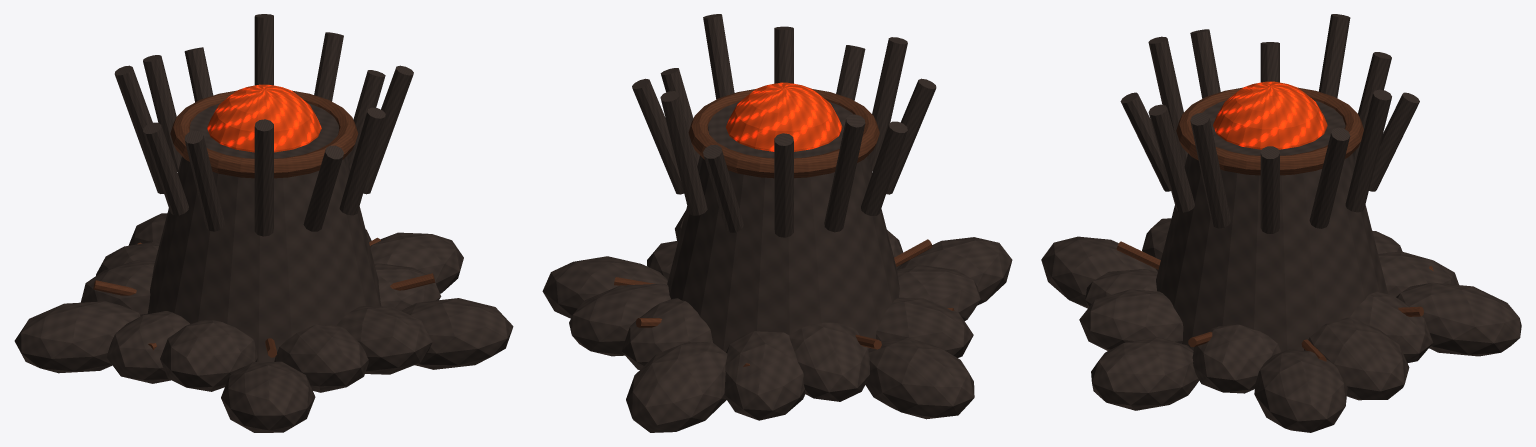
The model's file is underworld-geothermal-vent-crown.glb.
3 views of the same model, side by side, from view 1: azimuth 30°, elevation 25°; view 2: azimuth 150°, elevation 25°; view 3: azimuth 270°, elevation 25° (orthographic).
Parts seen in each view (by area): view 1: main-chimney, slag-foot-6, slag-foot-12, live-throat, slag-foot-9, slag-foot-8, emberiron-rim, slag-foot-11, slag-foot-10, slag-foot-7, slag-foot-0, slag-foot-5 (+15 smaller); view 2: main-chimney, slag-foot-3, slag-foot-6, slag-foot-4, live-throat, slag-foot-5, emberiron-rim, slag-foot-1, slag-foot-0, slag-foot-7, slag-foot-9, slag-foot-2 (+14 smaller); view 3: main-chimney, slag-foot-3, slag-foot-12, slag-foot-0, live-throat, slag-foot-1, slag-foot-11, slag-foot-13, emberiron-rim, slag-foot-9, slag-foot-2, crown-spire-2 (+15 smaller).
Boxes of the visible parts, left/top/right/bottom form: main-chimney: left=147, top=103, right=381, bottom=361; slag-foot-6: left=14, top=301, right=140, bottom=373; slag-foot-12: left=401, top=298, right=513, bottom=369; live-throat: left=207, top=84, right=321, bottom=152; slag-foot-9: left=221, top=361, right=315, bottom=432; slag-foot-8: left=160, top=320, right=257, bottom=391; emberiron-rim: left=170, top=90, right=358, bottom=178; slag-foot-11: left=336, top=306, right=432, bottom=374; slag-foot-10: left=274, top=324, right=368, bottom=392; slag-foot-7: left=106, top=311, right=189, bottom=383; slag-foot-0: left=370, top=232, right=463, bottom=293; slag-foot-5: left=80, top=260, right=155, bottom=316; main-chimney: left=667, top=101, right=899, bottom=352; slag-foot-3: left=626, top=341, right=727, bottom=432; slag-foot-6: left=865, top=338, right=974, bottom=419; slag-foot-4: left=724, top=331, right=805, bottom=420; live-throat: left=726, top=82, right=842, bottom=151; slag-foot-5: left=789, top=322, right=869, bottom=401; emberiron-rim: left=688, top=89, right=879, bottom=178; slag-foot-1: left=569, top=283, right=670, bottom=356; slag-foot-0: left=542, top=256, right=667, bottom=318; slag-foot-7: left=876, top=297, right=973, bottom=357; slag-foot-9: left=897, top=237, right=1012, bottom=305; slag-foot-2: left=621, top=298, right=712, bottom=369; main-chimney: left=1156, top=100, right=1387, bottom=351; slag-foot-3: left=1396, top=282, right=1521, bottom=356; slag-foot-12: left=1091, top=337, right=1199, bottom=410; slag-foot-0: left=1254, top=349, right=1347, bottom=432; live-throat: left=1213, top=81, right=1327, bottom=149; slag-foot-1: left=1304, top=317, right=1409, bottom=400; slag-foot-11: left=1079, top=289, right=1183, bottom=350; slag-foot-13: left=1192, top=324, right=1281, bottom=393; emberiron-rim: left=1176, top=87, right=1363, bottom=175; slag-foot-9: left=1041, top=236, right=1157, bottom=308; slag-foot-2: left=1350, top=291, right=1433, bottom=362; crown-spire-2: left=1345, top=89, right=1391, bottom=212.
Bounding box in the file's own units: 3.55 × 2.22 × 3.45.
3 materials, 3 textured.
